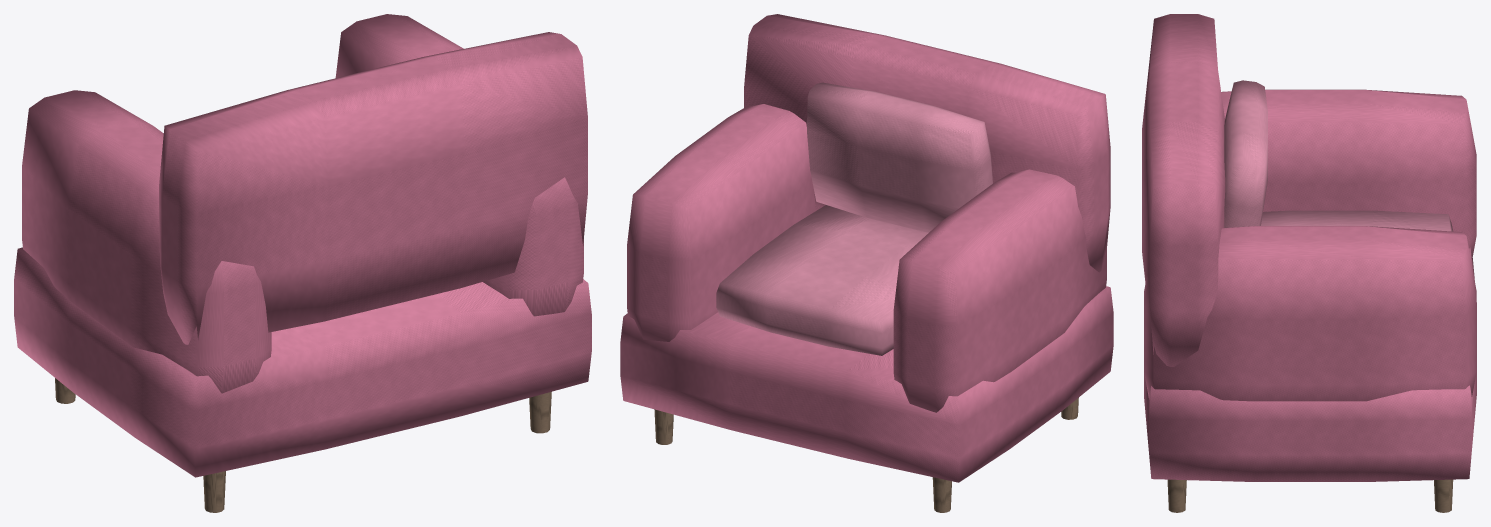
The model's file is loveseat_pink.glb.
3 renders of one model, left to right at view 1: azimuth 30°, elevation 25°; view 2: azimuth 150°, elevation 25°; view 3: azimuth 270°, elevation 25°, orthographic. The views are drawn at different scales.
Visible parts, largest first — view 1: loveseat_pink_body; view 2: loveseat_pink_body; view 3: loveseat_pink_body.
Boxes of the visible parts, box(x1,y1,x2,y2) form: loveseat_pink_body: box(14, 14, 591, 512); loveseat_pink_body: box(620, 14, 1113, 512); loveseat_pink_body: box(1142, 14, 1476, 512).
Size of the model in its own units: 1.2 by 1.09 by 0.955.
3 materials, 3 textured.
